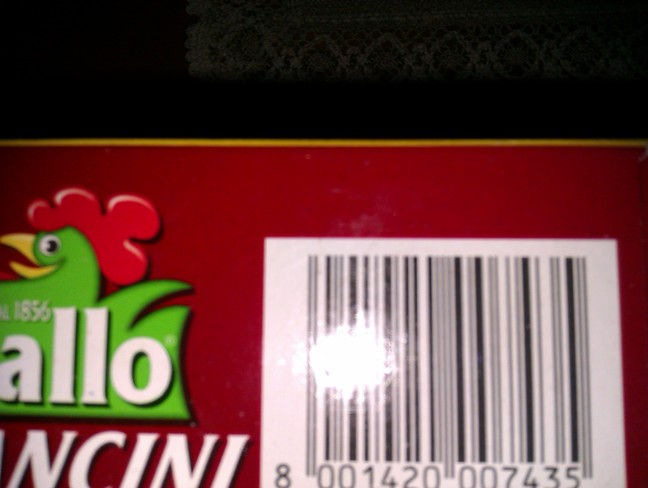barcode: (274, 240, 602, 472)
